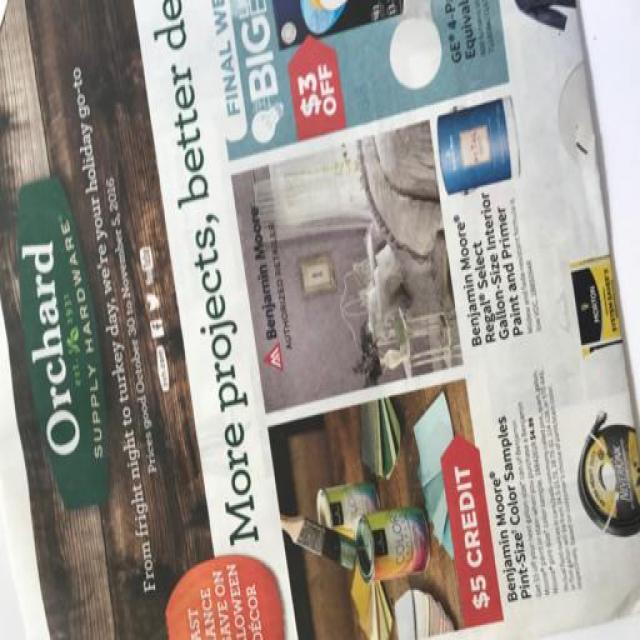paper: (3, 1, 631, 640)
